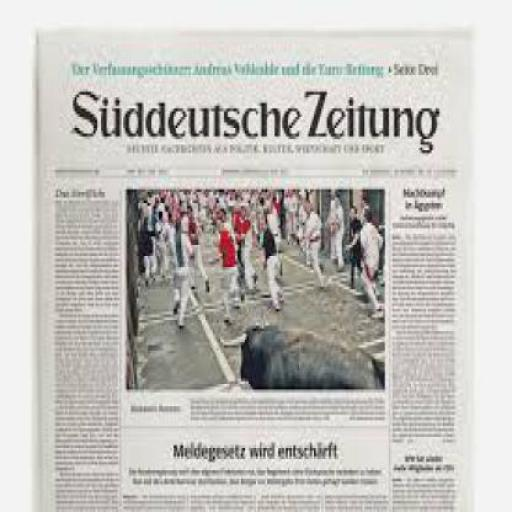paper: (33, 22, 473, 510)
